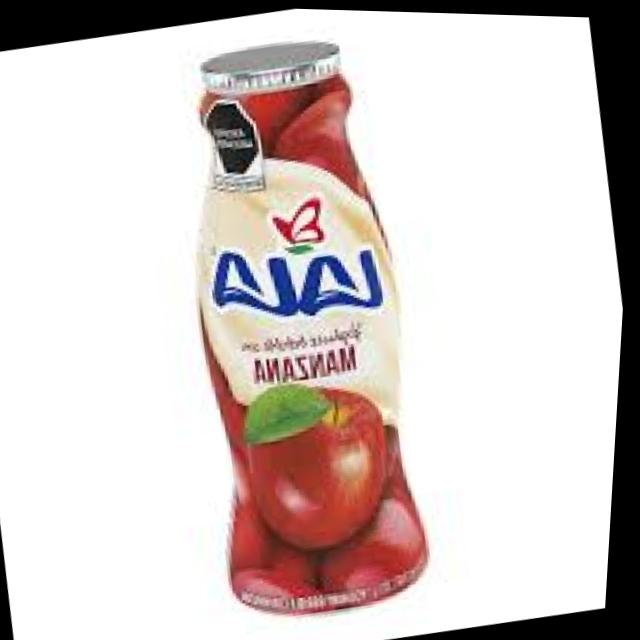Botella: (135, 9, 470, 615)
